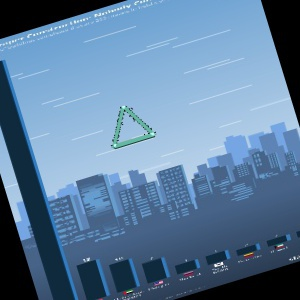triangle: (108, 102, 159, 151)
